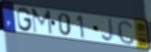0: (57, 13, 72, 38)
1: (76, 14, 86, 39)
C: (116, 19, 136, 46)
G: (16, 7, 34, 33)
J: (100, 18, 115, 43)
M: (31, 8, 54, 36)
